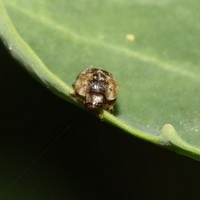insect: (71, 68, 118, 111)
